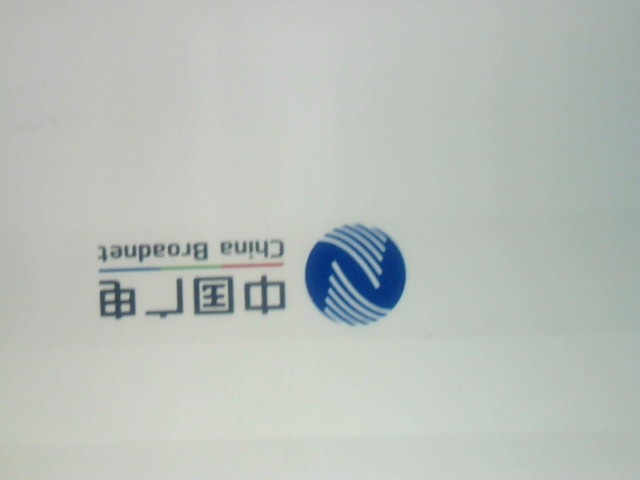AW_ChinaBroadNet: (80, 222, 423, 334)
